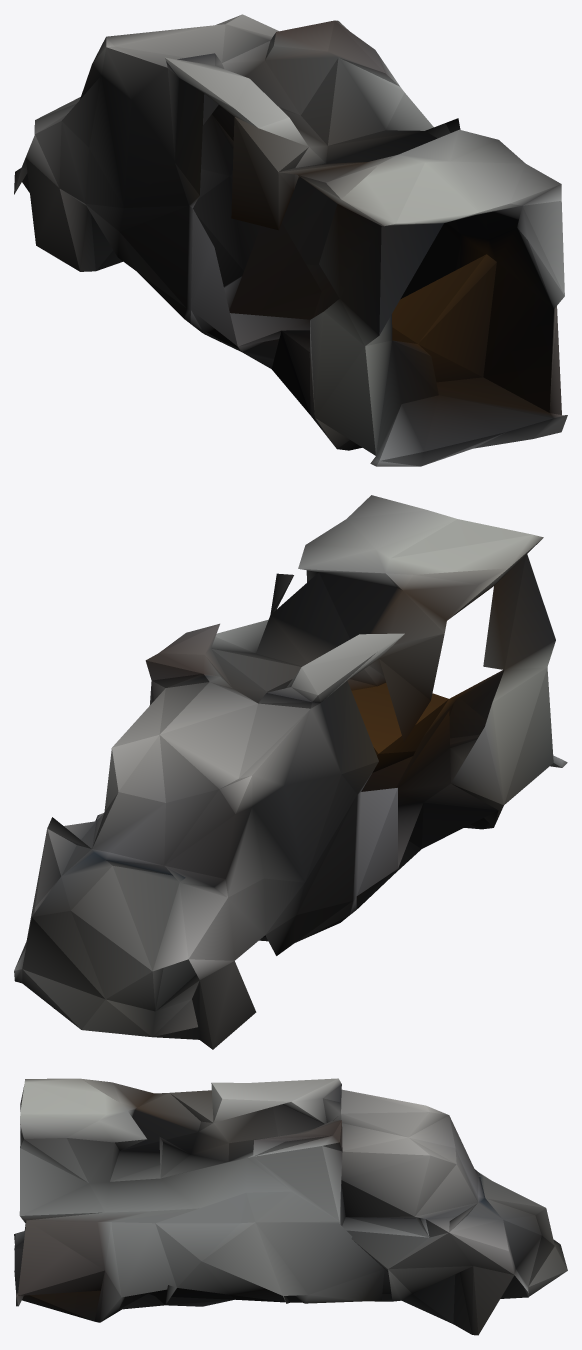
The picture shows the model from 3 angles, top to bottom: view 1: azimuth 30°, elevation 25°; view 2: azimuth 150°, elevation 25°; view 3: azimuth 270°, elevation 25°; orthographic projection. The views are drawn at different scales.
Size of the model in its own units: 2.22 by 2.8 by 7.03.
